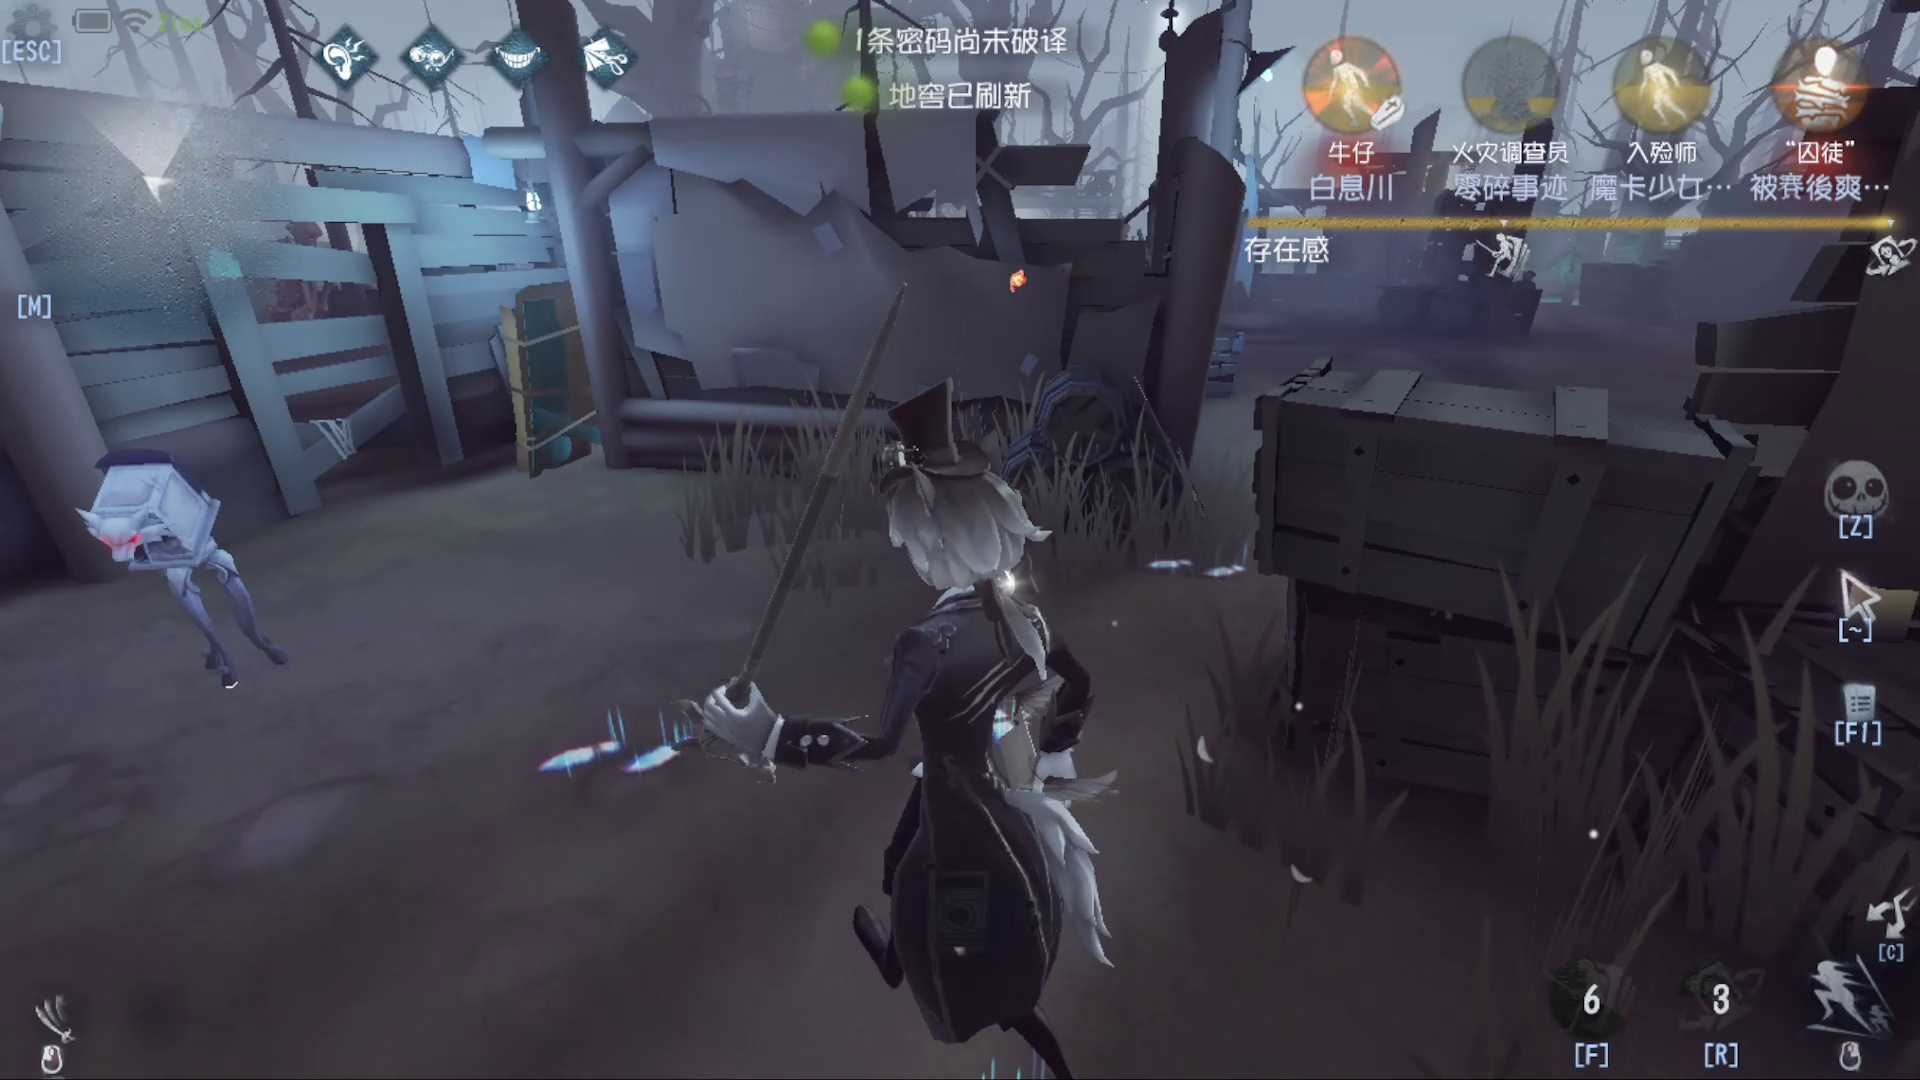木板: (448, 258, 616, 473)
求生者: (996, 257, 1040, 306)
